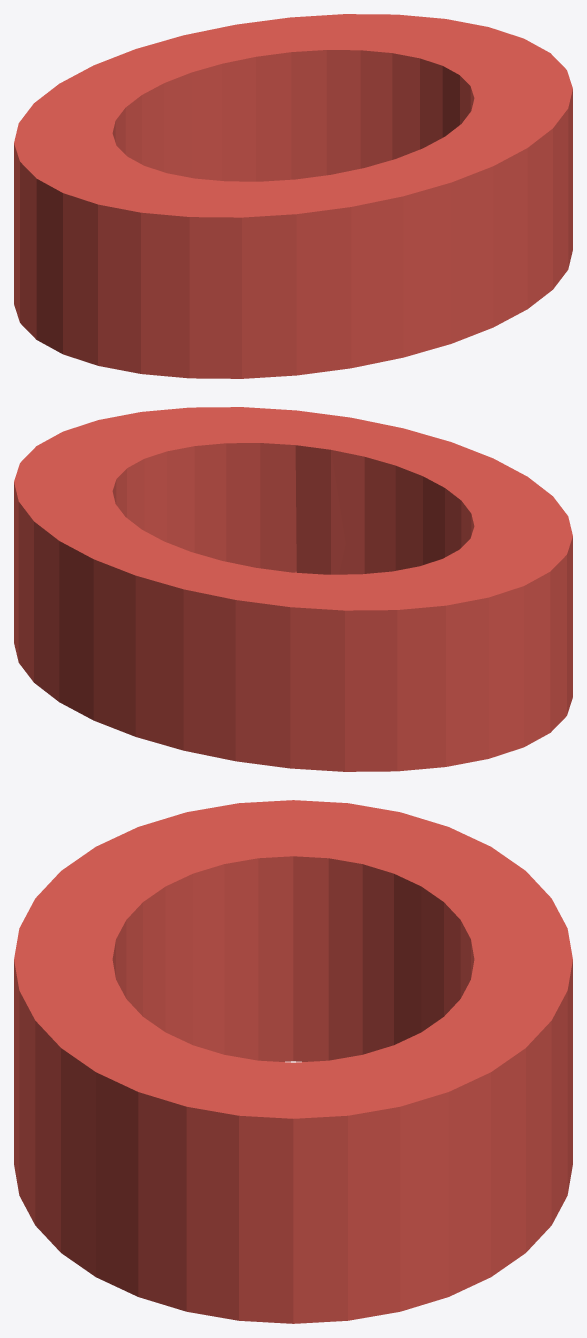
File: hiperqueratosis.gltf
The picture shows the model from 3 angles, top to bottom: view 1: azimuth 30°, elevation 25°; view 2: azimuth 150°, elevation 25°; view 3: azimuth 270°, elevation 25°; orthographic projection. The views are drawn at different scales.
Parts seen in each view (by area): view 1: Cilindro; view 2: Cilindro; view 3: Cilindro.
Part boxes in pixels (box(x1,y1,x2,y2)): Cilindro: box(14, 14, 572, 378); Cilindro: box(14, 407, 572, 771); Cilindro: box(14, 800, 572, 1323).
Size of the model in its own units: 1.75 by 0.5262 by 1.3.
